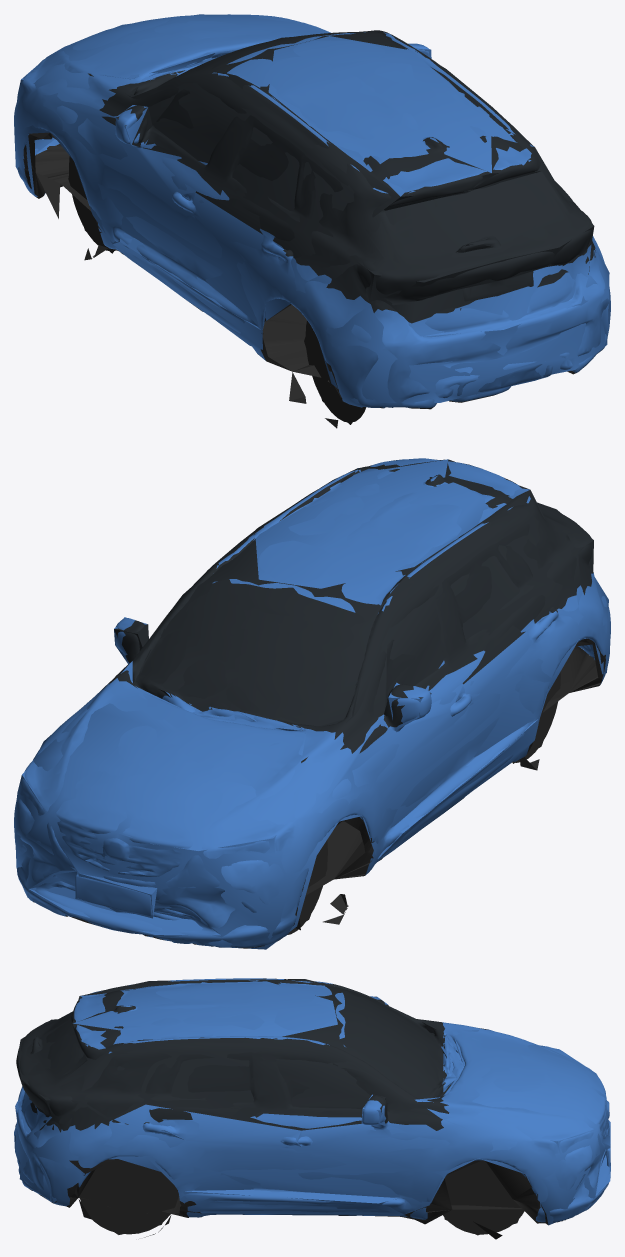
File: mazda-cx-3.glb
3 views of the same model, one above another, from view 1: azimuth 30°, elevation 25°; view 2: azimuth 150°, elevation 25°; view 3: azimuth 270°, elevation 25° (orthographic). The views are drawn at different scales.
Visible parts, largest first — view 1: body, far; view 2: body, far; view 3: body, far.
Boxes of the visible parts, box(x1,y1,x2,y2) form: body: box(14, 14, 610, 428); far: box(14, 14, 609, 424); body: box(14, 458, 610, 948); far: box(15, 459, 608, 949); body: box(15, 978, 610, 1239); far: box(14, 979, 610, 1236).
Size of the model in its own units: 1.96 by 1.56 by 4.33.
